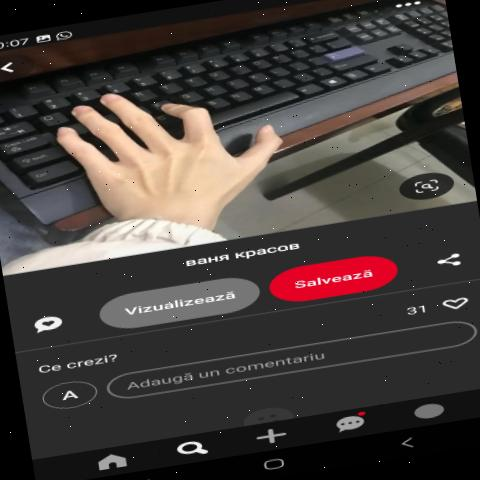hands: (13, 47, 334, 250)
